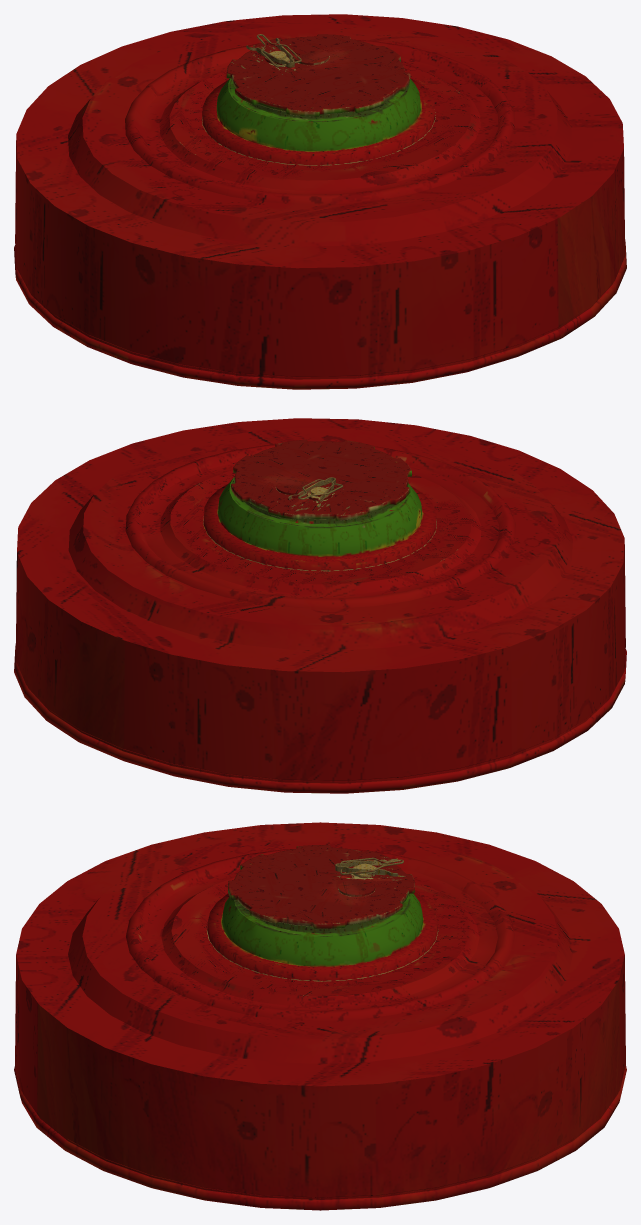
3 renders of one model, top to bottom at view 1: azimuth 30°, elevation 25°; view 2: azimuth 150°, elevation 25°; view 3: azimuth 270°, elevation 25°, orthographic.
Parts seen in each view (by area): view 1: object_0; view 2: object_0; view 3: object_0.
Boxes of the visible parts, <box> form: object_0: <box>14,14,626,389</box>; object_0: <box>14,418,626,793</box>; object_0: <box>14,822,626,1210</box>.
Bounding box in the file's own units: 0.3088 × 0.1132 × 0.3005.
Materials: 1 (1 with a texture image).
